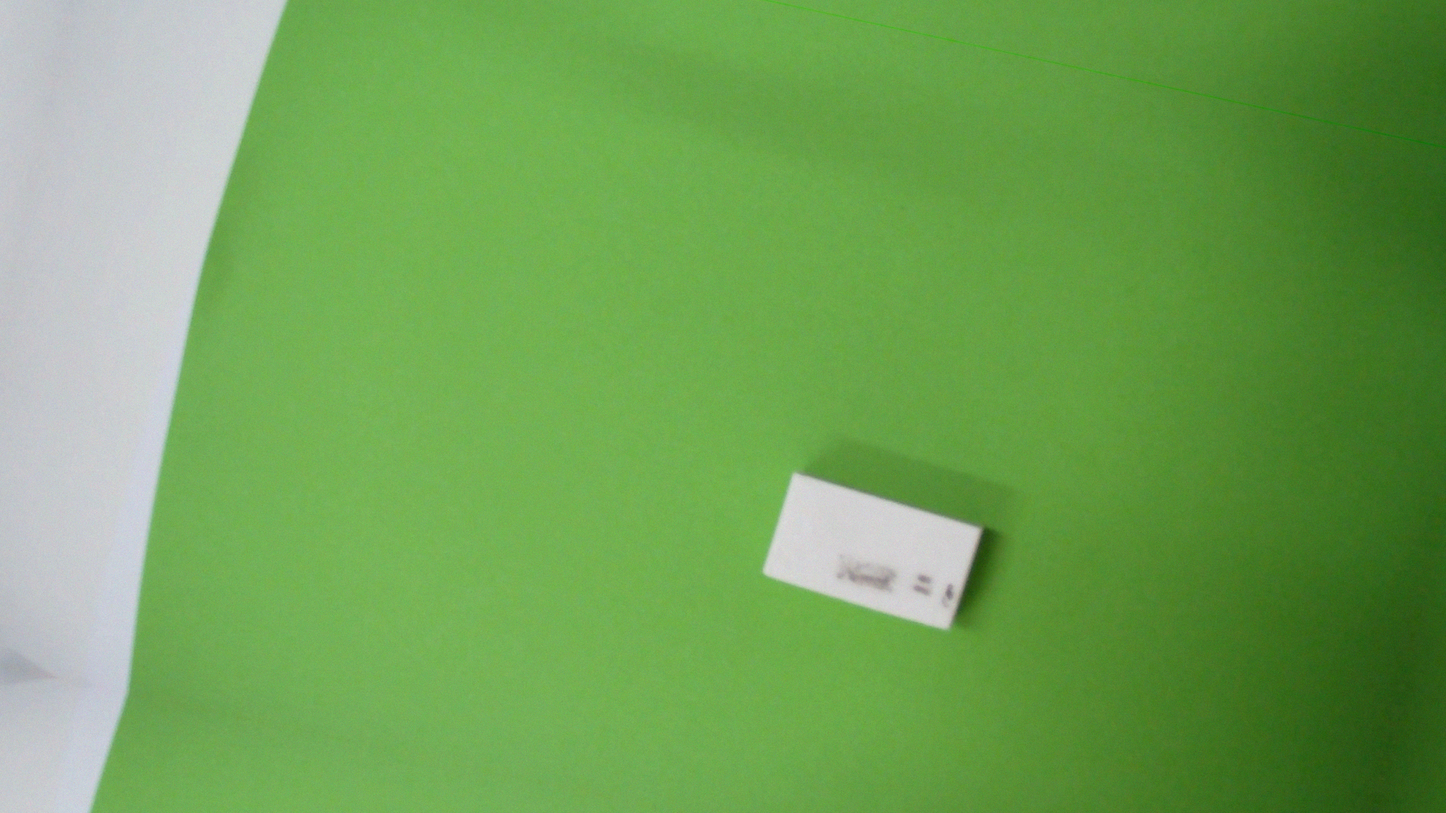gom: (755, 459, 991, 646)
